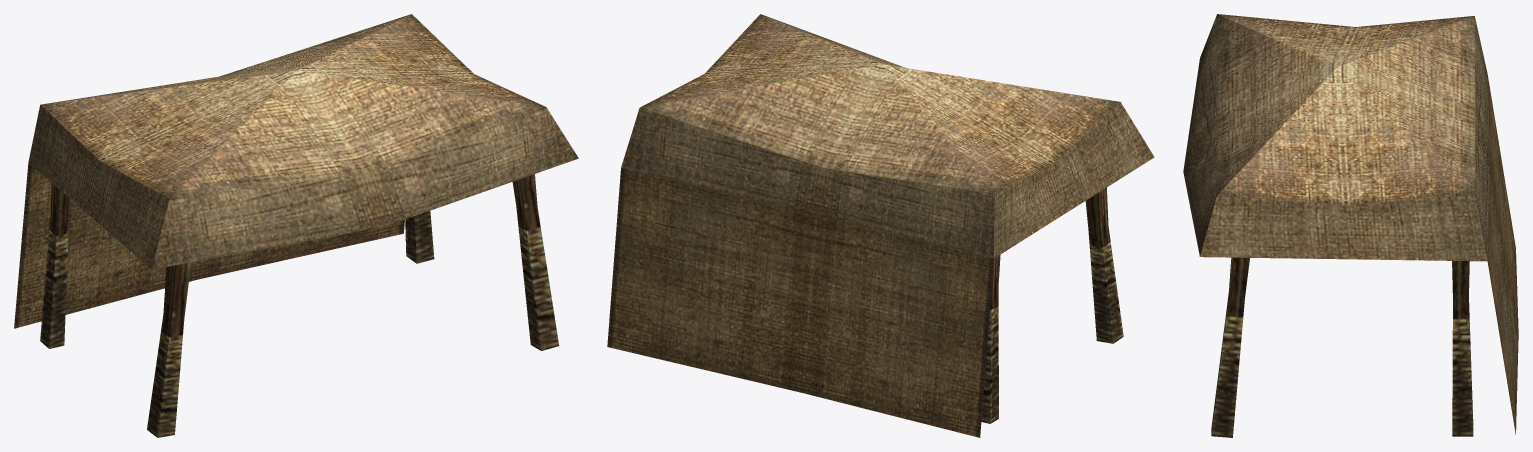
File: b_general_obj_06.fbx
3 views of the same model, side by side, from view 1: azimuth 30°, elevation 25°; view 2: azimuth 150°, elevation 25°; view 3: azimuth 270°, elevation 25° (orthographic). The views are drawn at different scales.
Visible parts, largest first — view 1: Object02; view 2: Object02; view 3: Object02.
Boxes of the visible parts, bbox=[...] form: Object02: bbox=[14, 14, 578, 437]; Object02: bbox=[607, 14, 1154, 437]; Object02: bbox=[1183, 14, 1518, 437].
Size of the model in its own units: 5.57 by 3.49 by 3.84.
